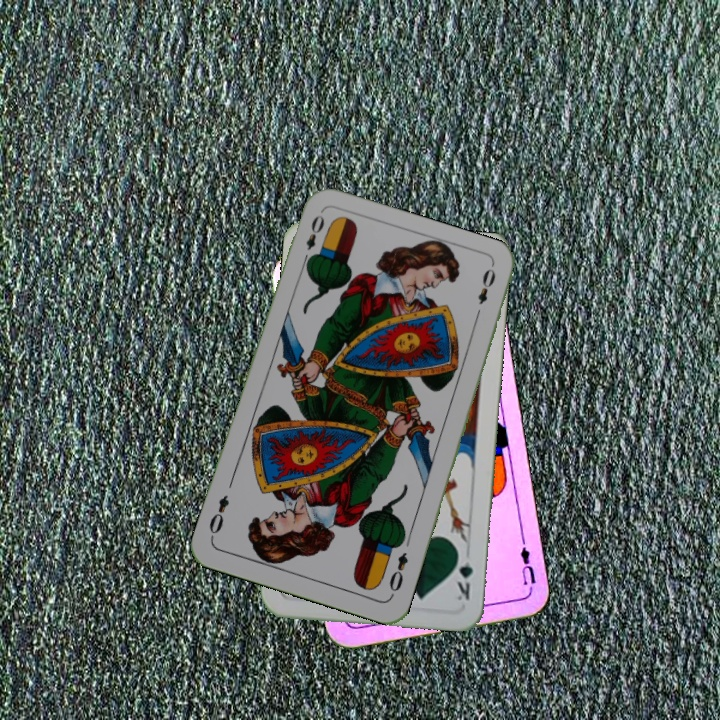EO: (298, 210, 327, 268), (385, 548, 411, 599)
EU: (516, 543, 539, 595)
GK: (451, 546, 476, 603)
